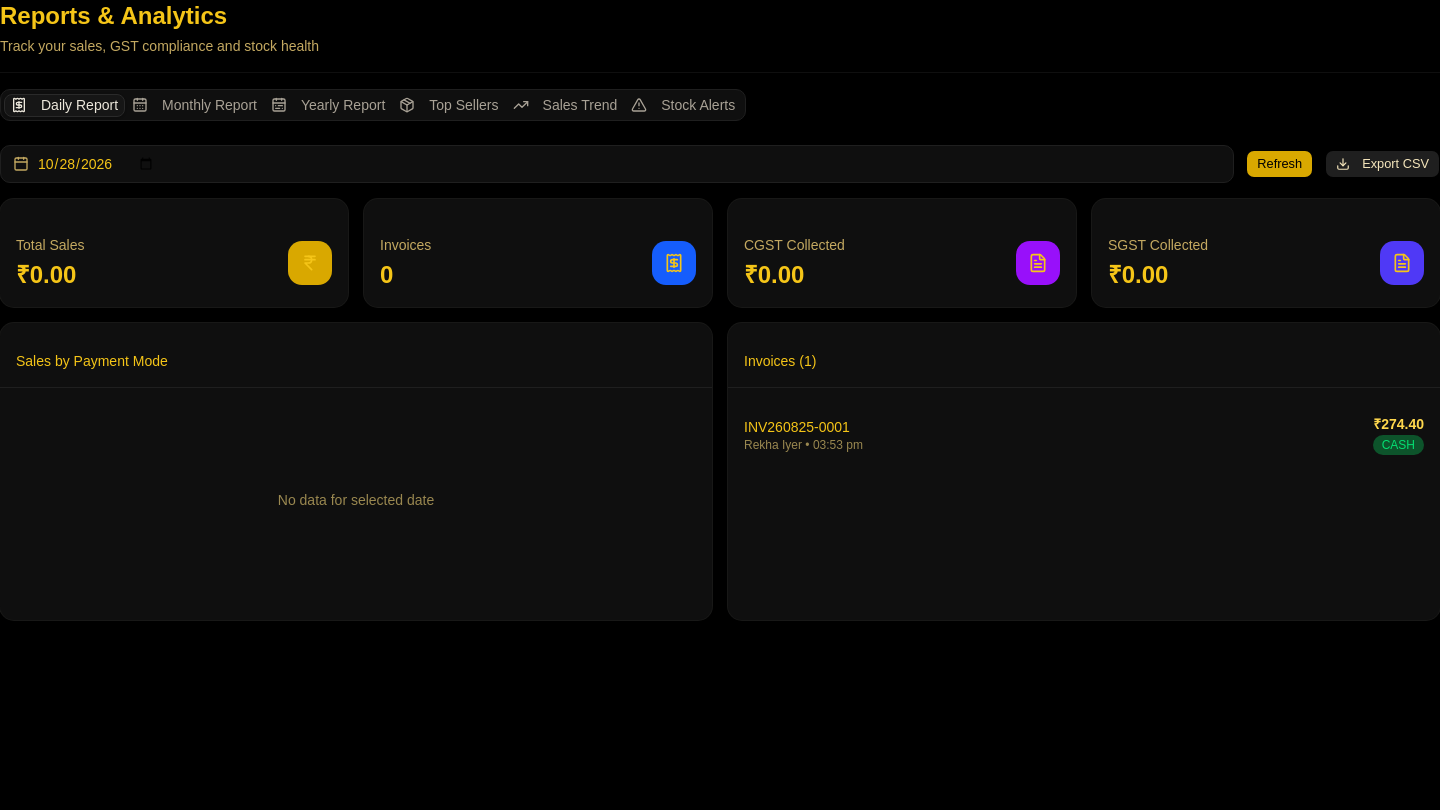
Scenario: Reports — the return control is admin-only › is absent for a cashier
Step 1. Click the button with aria-label "Invoice INV260825-0001" → (797, 426), box [728,404,1439,465]
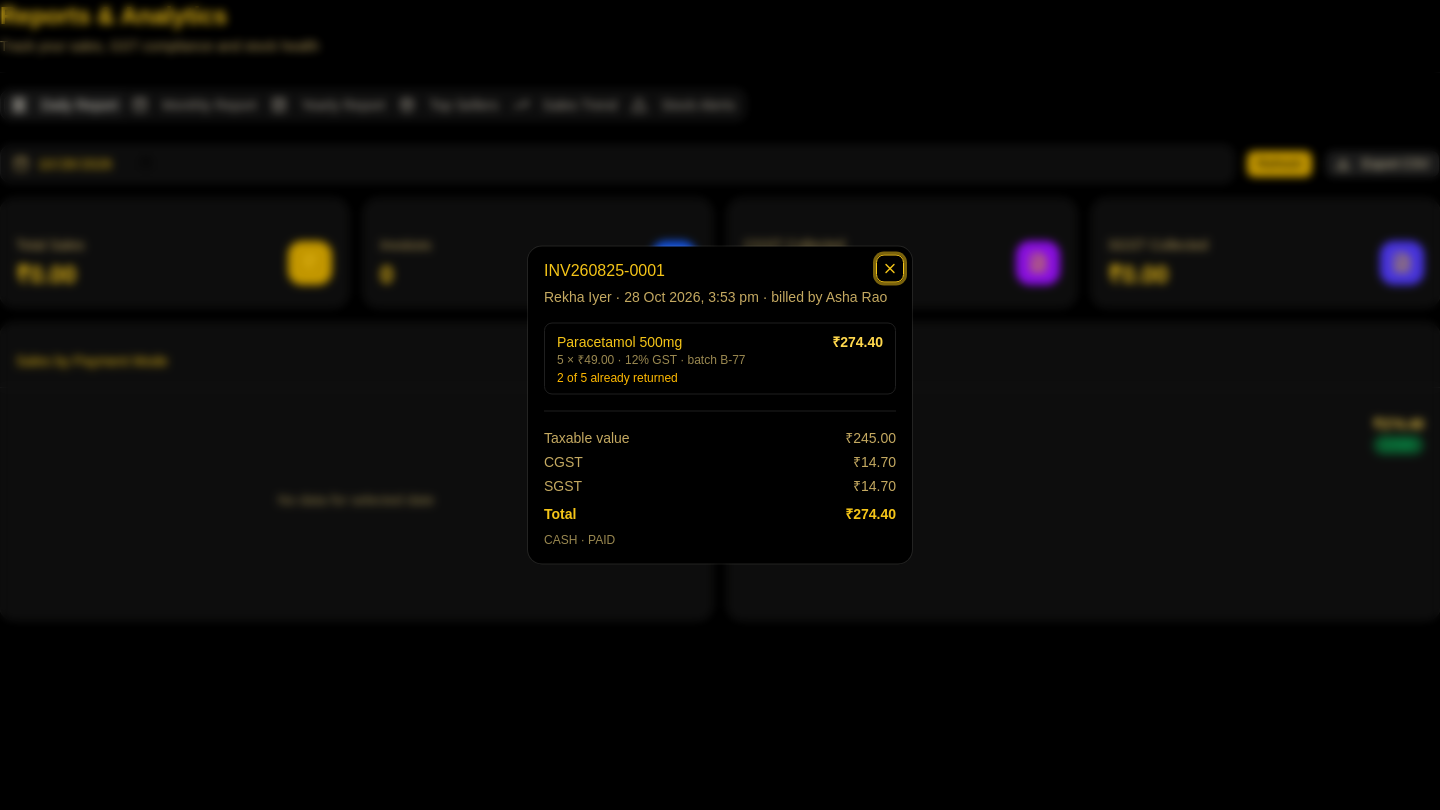
Now the text "Paracetamol 500mg" is shown, box [557,334,682,350]
